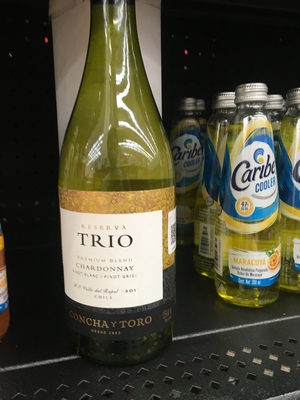trio chardonnay: (56, 12, 207, 369)
